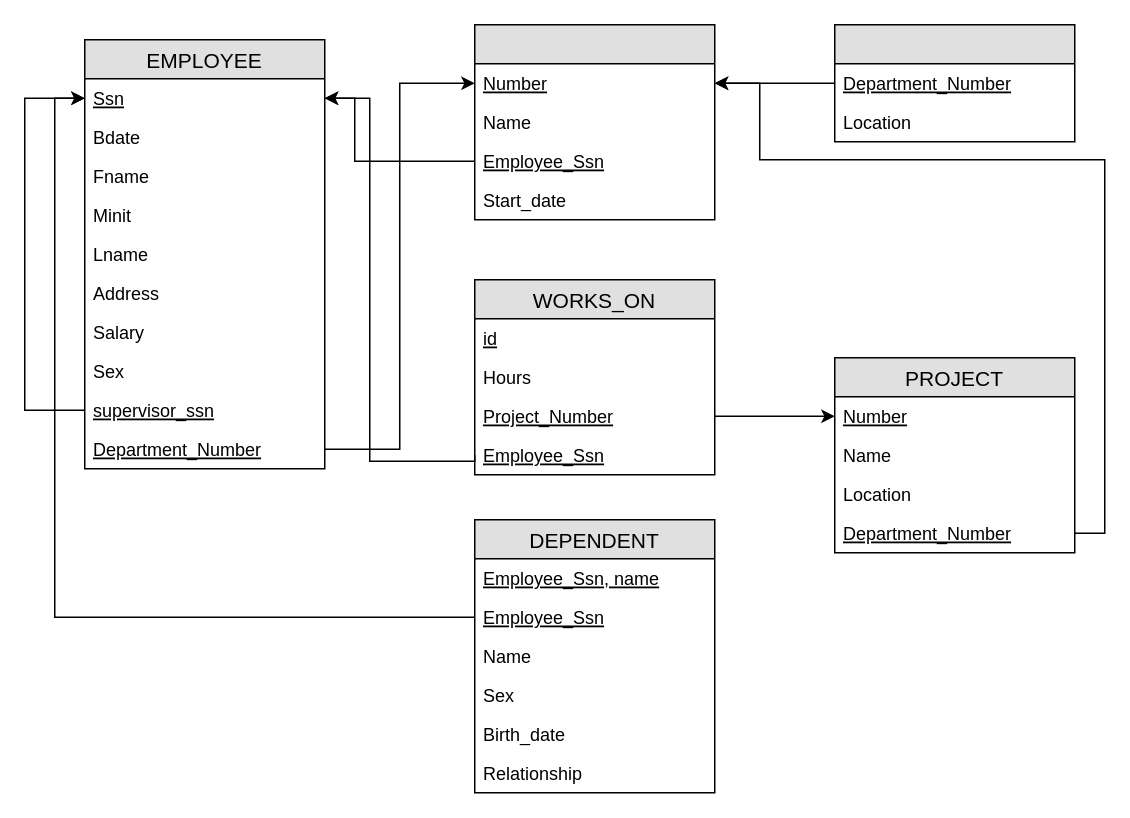
This 1130x818 diagram has some shape labels left out. Here are the shapes that lost their labels. From the top down, the box of each, then its label:
(833, 23, 1075, 142): Locations
(473, 23, 715, 220): DEPARTMENT
